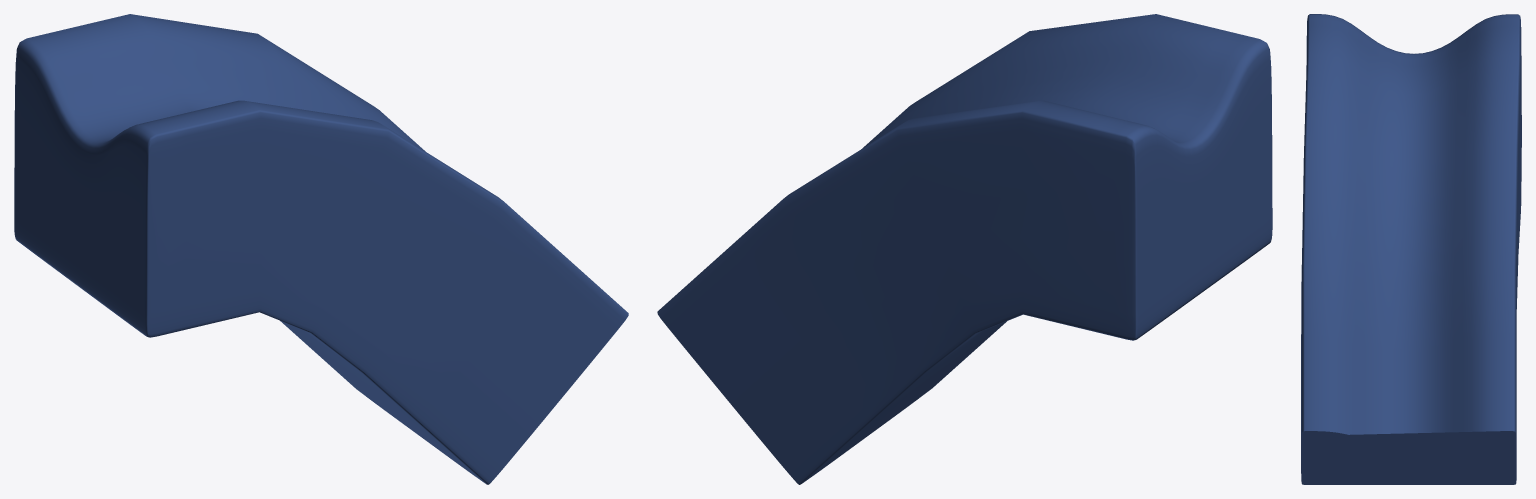
The model's file is ramp top.fbx.
The picture shows the model from 3 angles, left to right: view 1: azimuth 30°, elevation 25°; view 2: azimuth 150°, elevation 25°; view 3: azimuth 270°, elevation 25°; orthographic projection. The views are drawn at different scales.
Visible parts, largest first — view 1: ramp_track_top:pCube1; view 2: ramp_track_top:pCube1; view 3: ramp_track_top:pCube1.
Boxes of the visible parts, x1,y1,x2,y2 form: ramp_track_top:pCube1: [14, 14, 628, 484]; ramp_track_top:pCube1: [657, 14, 1272, 484]; ramp_track_top:pCube1: [1301, 14, 1521, 484].
Size of the model in its own units: 9.24 by 7.87 by 4.6.
